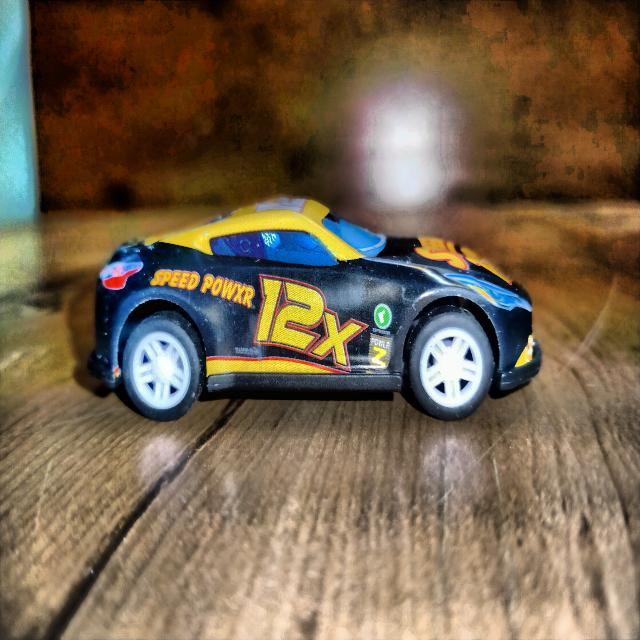Car: (88, 198, 540, 420)
